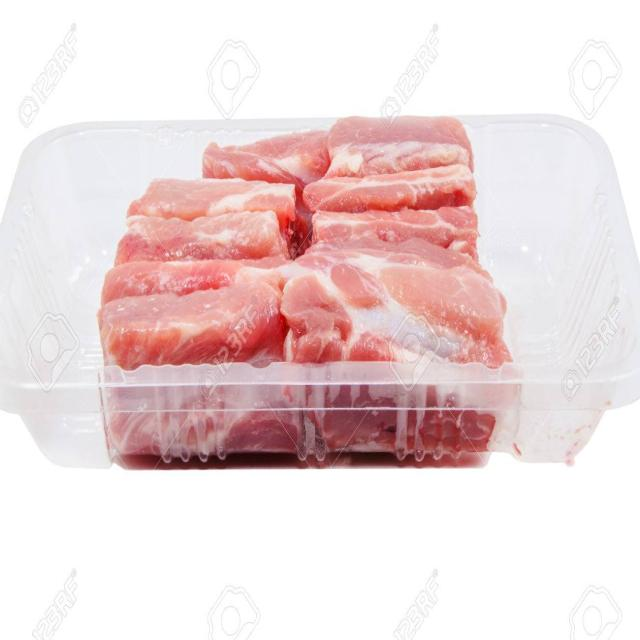pork: (85, 94, 528, 466)
